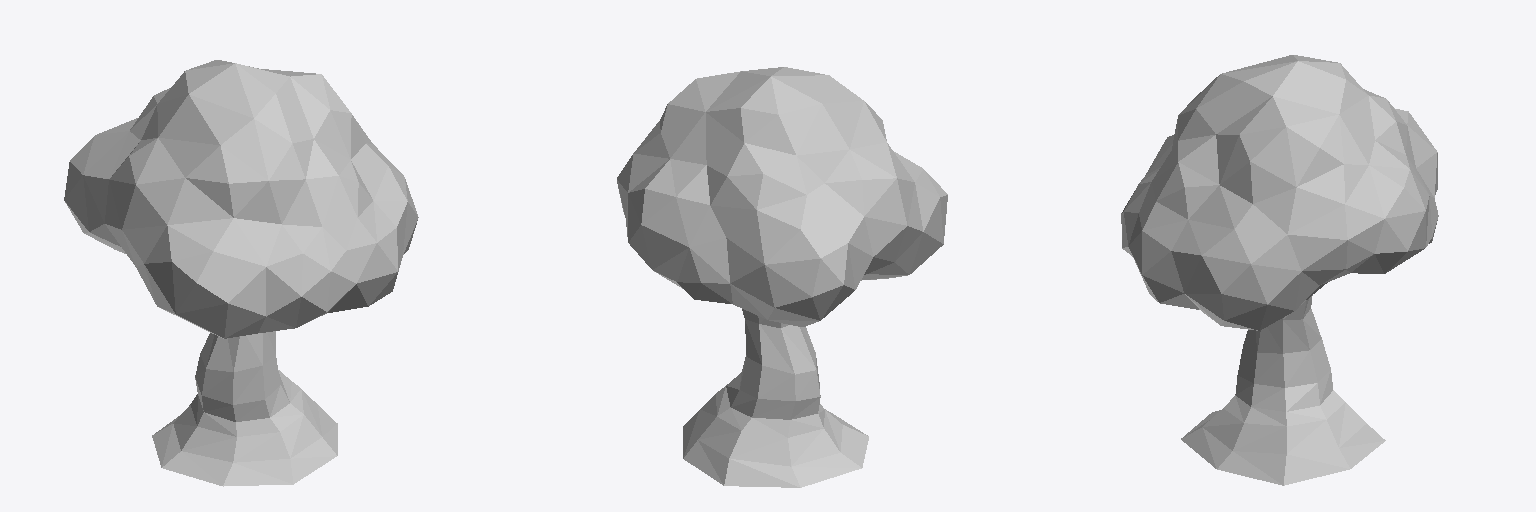
File: Arbol6.obj
3 views of the same model, side by side, from view 1: azimuth 30°, elevation 25°; view 2: azimuth 150°, elevation 25°; view 3: azimuth 270°, elevation 25° (orthographic).
Visible parts, largest first — view 1: polySurface3; view 2: polySurface3; view 3: polySurface3.
Boxes of the visible parts, x1=… form: polySurface3: x1=64, y1=60, x2=418, y2=486; polySurface3: x1=617, y1=67, x2=947, y2=487; polySurface3: x1=1121, y1=55, x2=1438, y2=485.
Bounding box in the file's own units: 1.83 × 2.42 × 1.84.